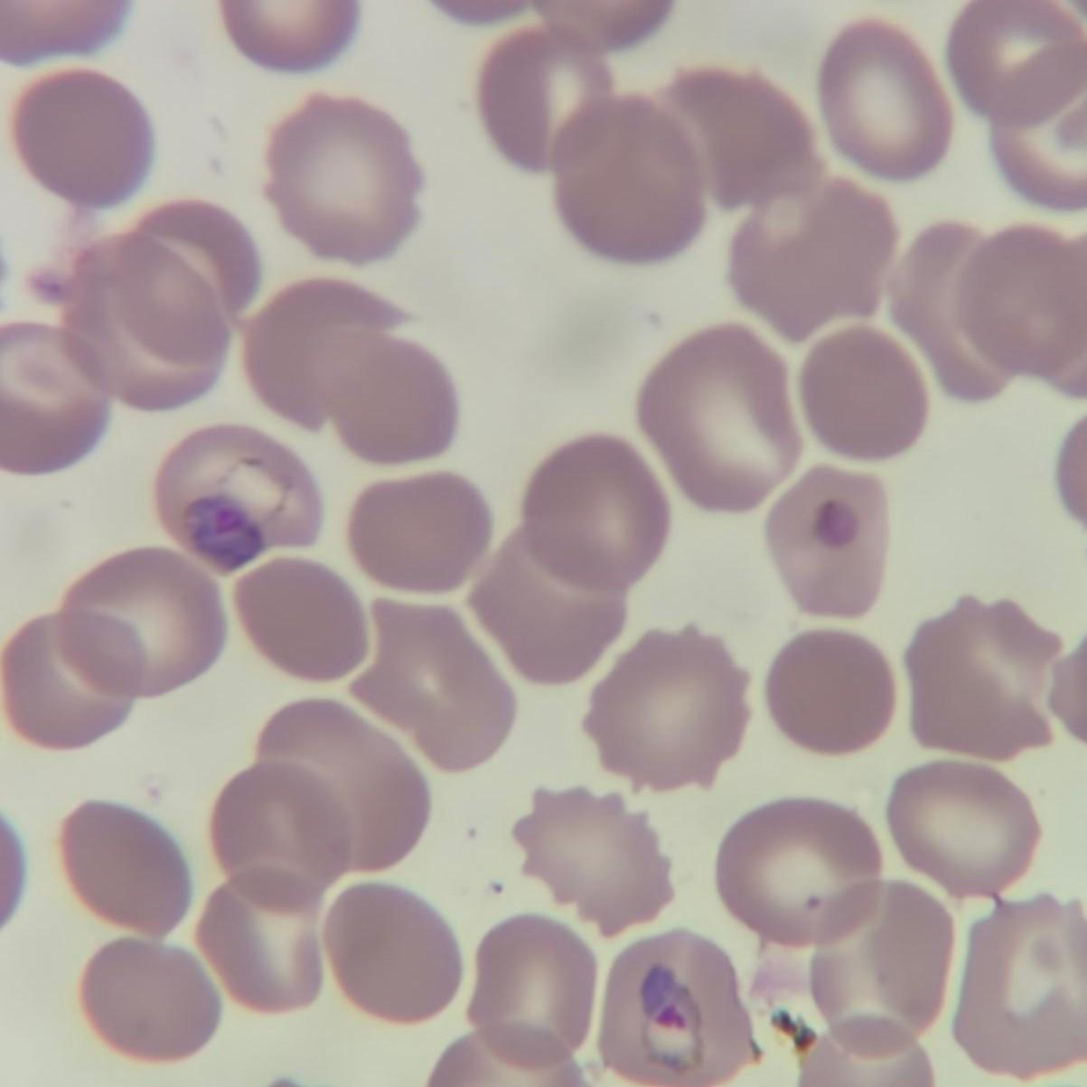Infected: (157, 420, 321, 585), (596, 932, 759, 1087)
Uninfected: (642, 330, 805, 514), (348, 601, 515, 767), (262, 703, 418, 880), (730, 181, 898, 342), (54, 239, 223, 396), (264, 98, 422, 264), (594, 626, 746, 798), (556, 91, 702, 263), (958, 890, 1087, 1083), (907, 597, 1054, 766), (468, 522, 623, 682), (515, 783, 674, 931), (660, 64, 816, 210), (66, 552, 217, 701), (526, 436, 672, 590), (725, 800, 885, 939), (473, 908, 606, 1075), (753, 459, 894, 615), (123, 206, 261, 364), (822, 19, 954, 181), (825, 868, 944, 1047), (63, 799, 209, 944), (247, 281, 390, 428), (890, 759, 1042, 897), (0, 618, 165, 744), (958, 222, 1087, 382), (343, 468, 498, 597), (0, 314, 116, 486), (190, 868, 325, 1013), (481, 25, 616, 167), (214, 769, 353, 902), (18, 68, 150, 203), (333, 890, 464, 1023), (949, 0, 1087, 125), (800, 333, 930, 461), (773, 628, 894, 760), (235, 558, 367, 679), (331, 344, 460, 466), (994, 37, 1087, 203), (90, 938, 217, 1055), (455, 730, 468, 731)
